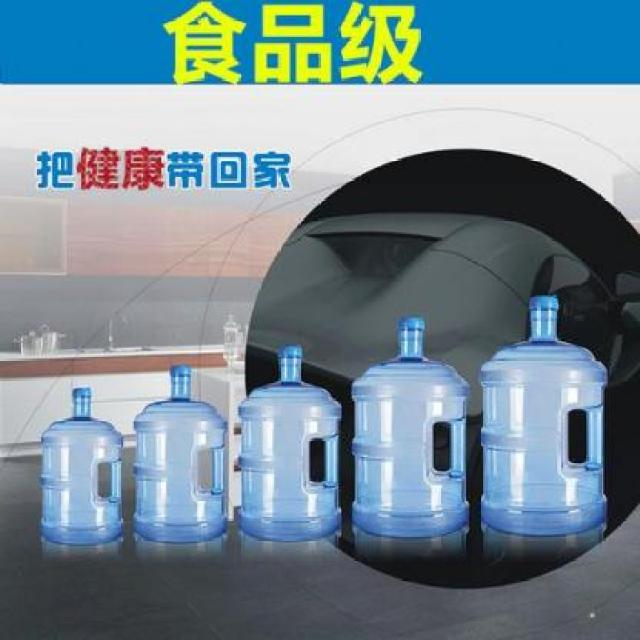coolerbottle: (480, 288, 612, 536), (350, 316, 474, 542), (234, 342, 345, 546), (129, 360, 229, 545), (37, 383, 128, 554)
